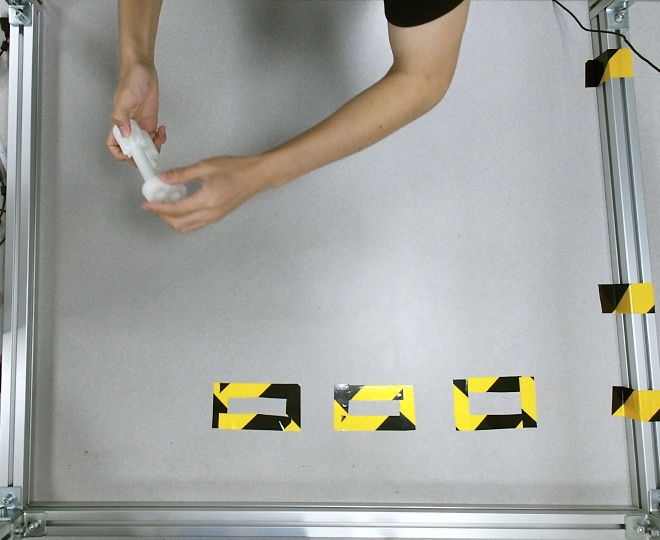stage_3: (112, 119, 159, 185)
